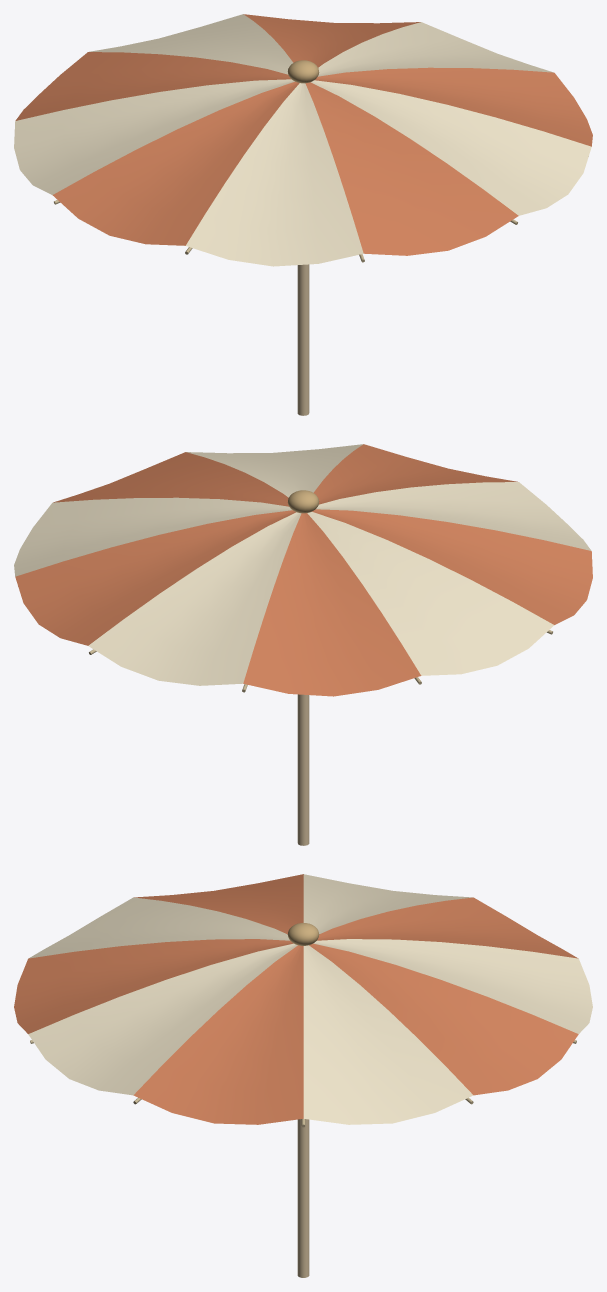
Rendered from umbrella-orange.glb.
3 renders of one model, top to bottom at view 1: azimuth 30°, elevation 25°; view 2: azimuth 150°, elevation 25°; view 3: azimuth 270°, elevation 25°, orthographic.
Parts seen in each view (by area): view 1: FabricPanelAssembly (×2), Pole, Finial; view 2: FabricPanelAssembly (×2), Pole, Finial; view 3: FabricPanelAssembly (×2), Pole, Finial.
Part boxes in pixels (<box>): FabricPanelAssembly (×2): <box>14,14,592,266</box>; Pole: <box>297,264,309,415</box>; Finial: <box>287,60,319,83</box>; FabricPanelAssembly (×2): <box>14,444,592,696</box>; Pole: <box>297,694,309,845</box>; Finial: <box>287,490,319,513</box>; FabricPanelAssembly (×2): <box>14,874,592,1124</box>; Pole: <box>297,1119,309,1277</box>; Finial: <box>287,923,319,945</box>.
Bounding box in the file's own units: 4.4 × 2.94 × 4.4.
